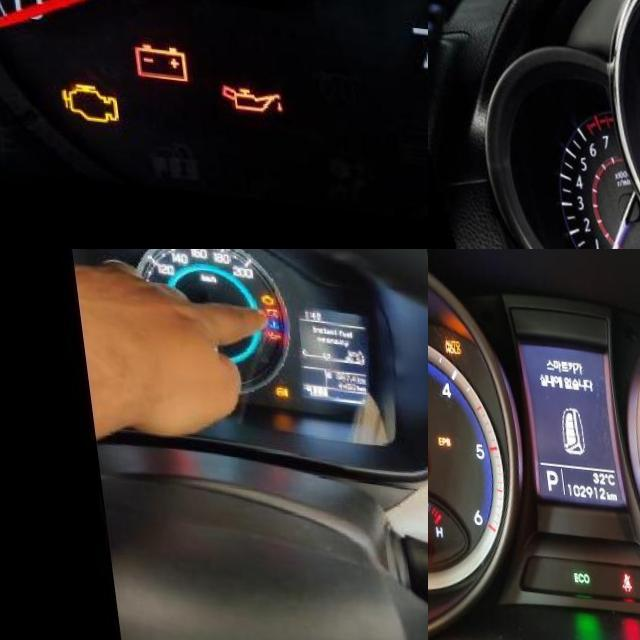Engine cooling system: (264, 312, 273, 322)
